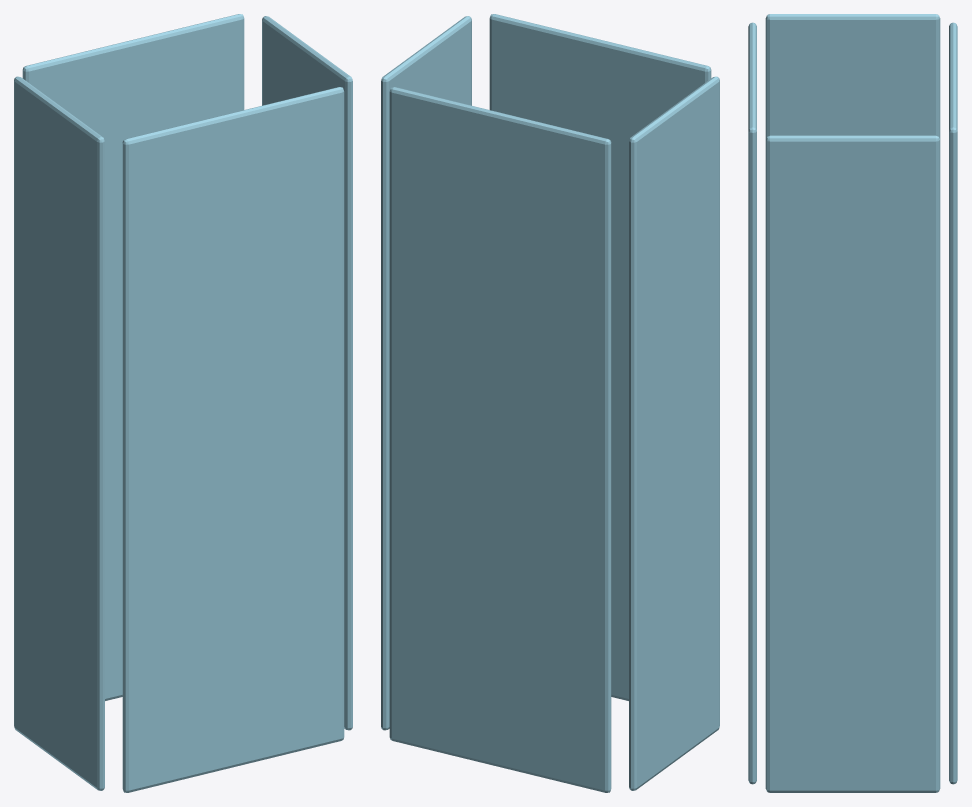
File: 5_vinyl.obj
3 renders of one model, left to right at view 1: azimuth 30°, elevation 25°; view 2: azimuth 150°, elevation 25°; view 3: azimuth 270°, elevation 25°, orthographic.
Size of the model in its own units: 0.544 by 1.33 by 0.384.
